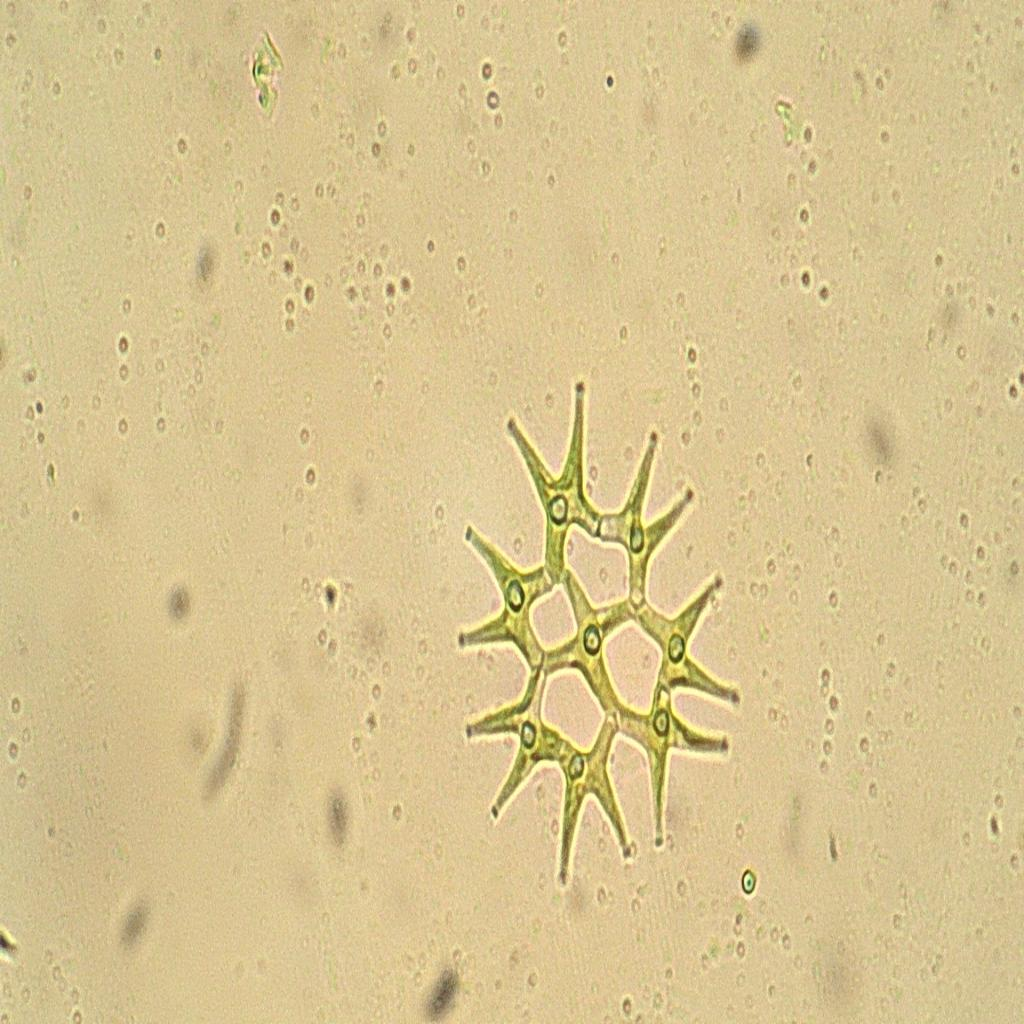Pediastrum_1T: (432, 375, 752, 897)
